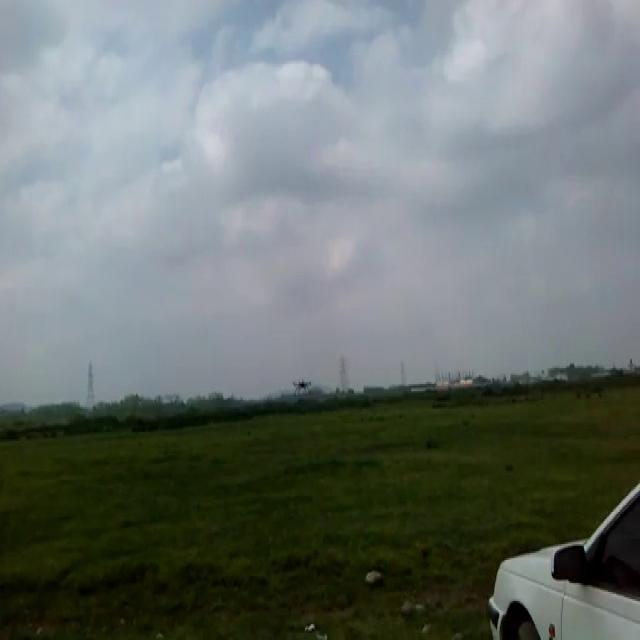drone: (289, 372, 315, 396)
